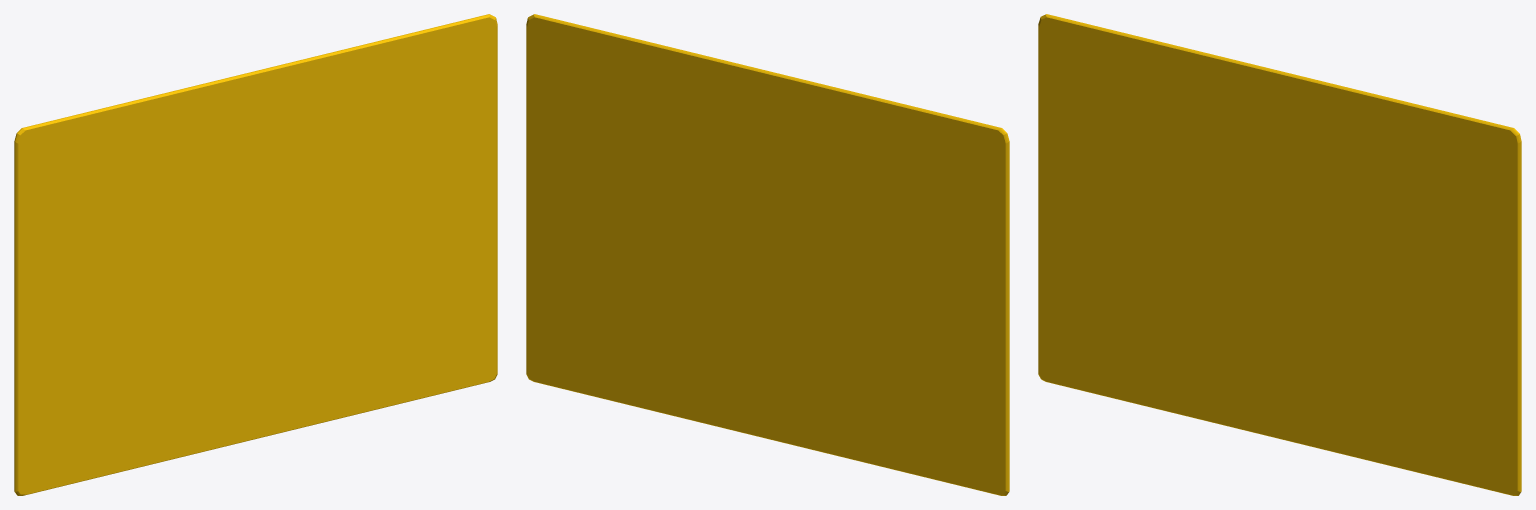
File: square_halford.gltf
3 views of the same model, side by side, from view 1: azimuth 30°, elevation 25°; view 2: azimuth 150°, elevation 25°; view 3: azimuth 330°, elevation 25° (orthographic).
Parts seen in each view (by area): view 1: Plane; view 2: Plane; view 3: Plane.
Boxes of the visible parts, x1,y1,x2,y2 form: Plane: (14, 14, 497, 495); Plane: (526, 14, 1009, 495); Plane: (1038, 14, 1521, 495).
Size of the model in its own units: 6.98 by 5.07 by 0.0744.
